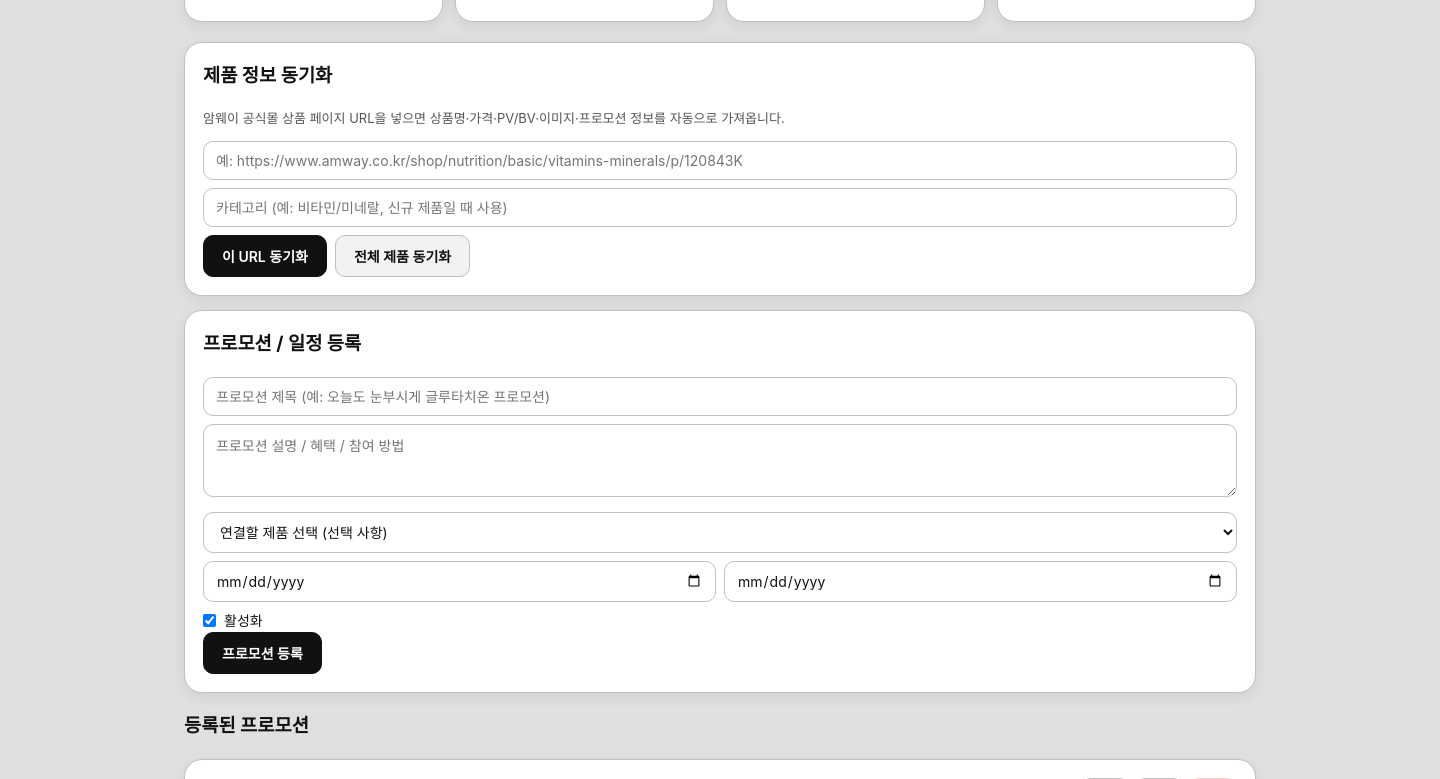
Test: Admin 프로모션 관리 › 모든 항목을 입력해 프로모션을 등록한다
(page scrolled)
In the field with placeholder "프로모션 제목 (예: 오늘도 눈부시게 글루타치온 프로모션)": (720, 397) [203, 377, 1237, 416], type "신규 프로모션"
In the text box with placeholder "프로모션 설명 / 혜택 / 참여 방법": (720, 461) [203, 424, 1237, 497], type "설명"
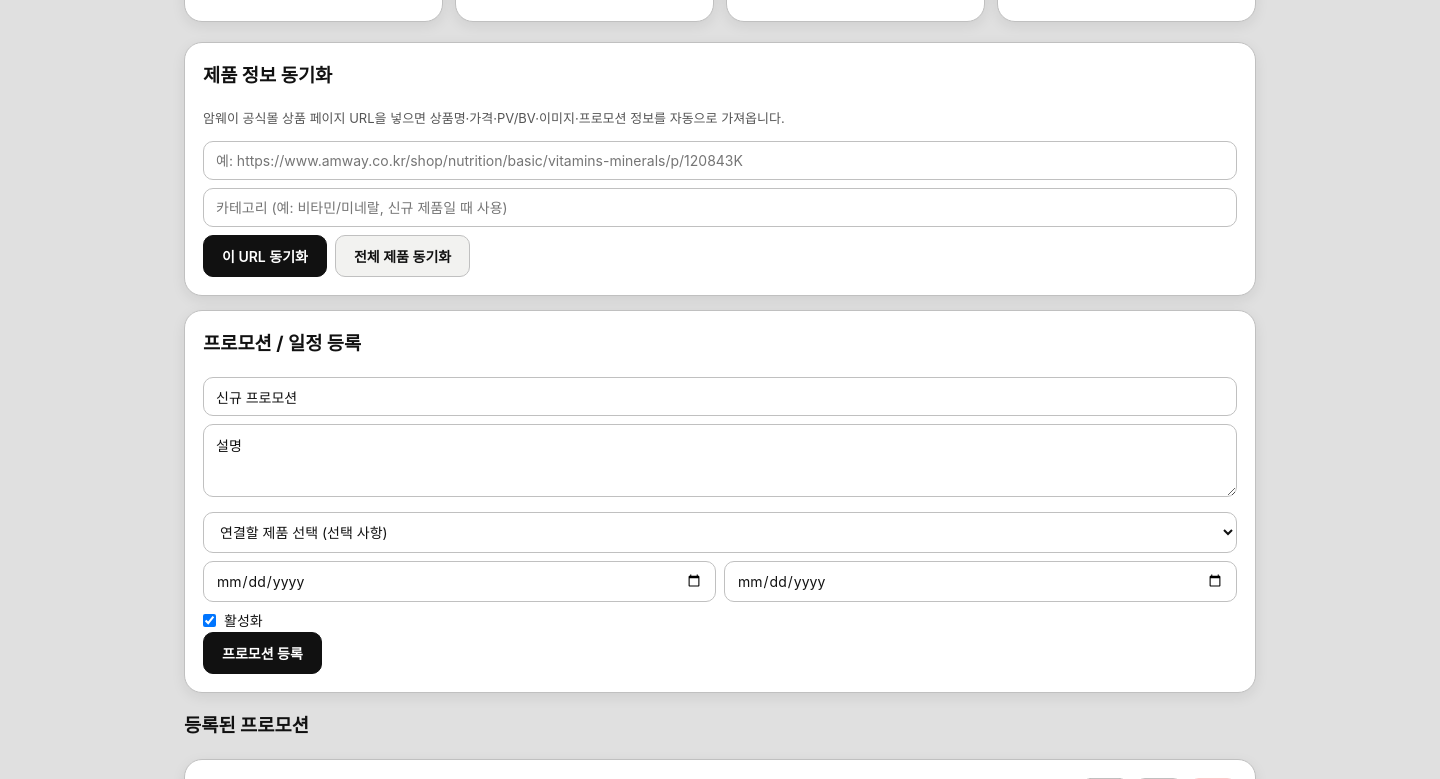
Select "루테인" in the dropdown: (720, 532) [203, 512, 1237, 553]
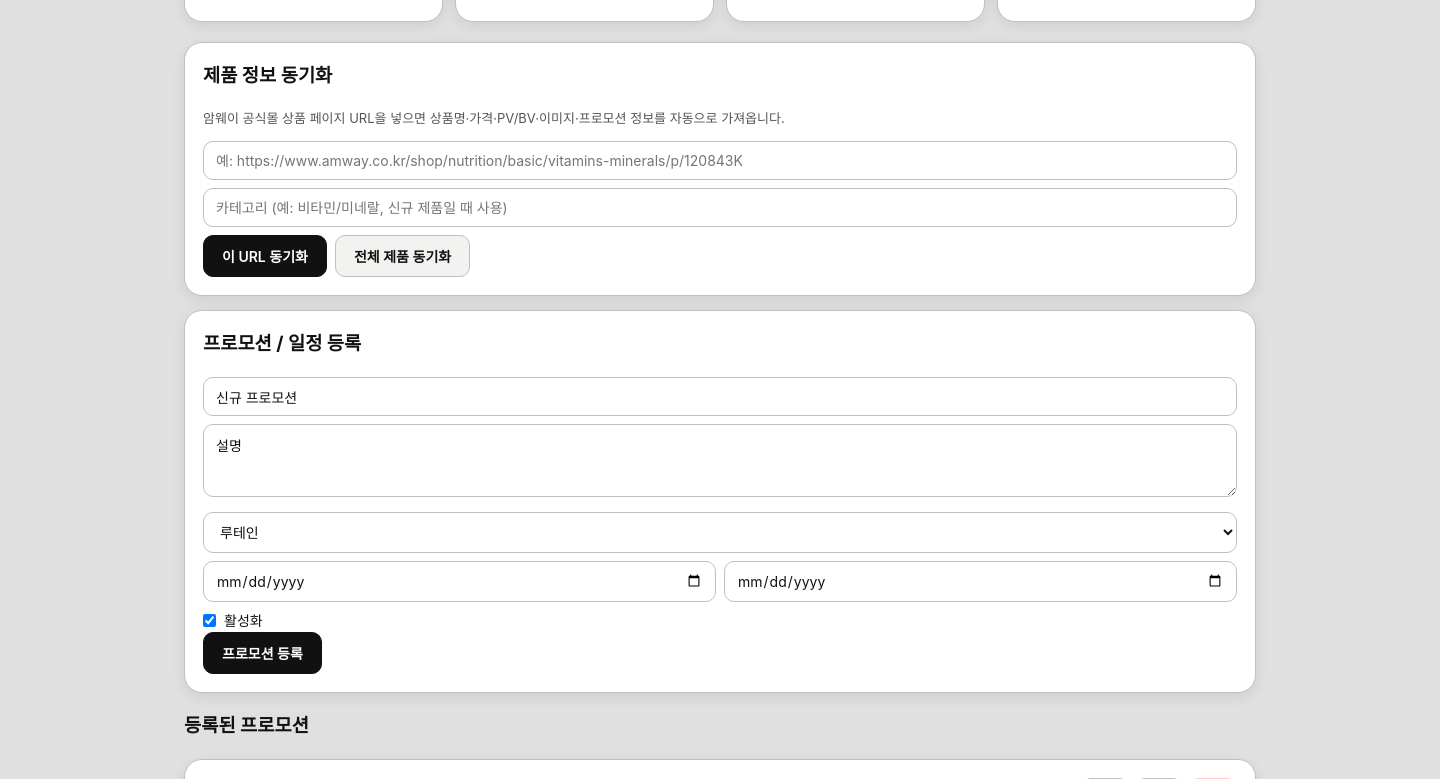
In the date field named "시작일": (460, 582) [203, 561, 716, 602], type "2026-10-01"
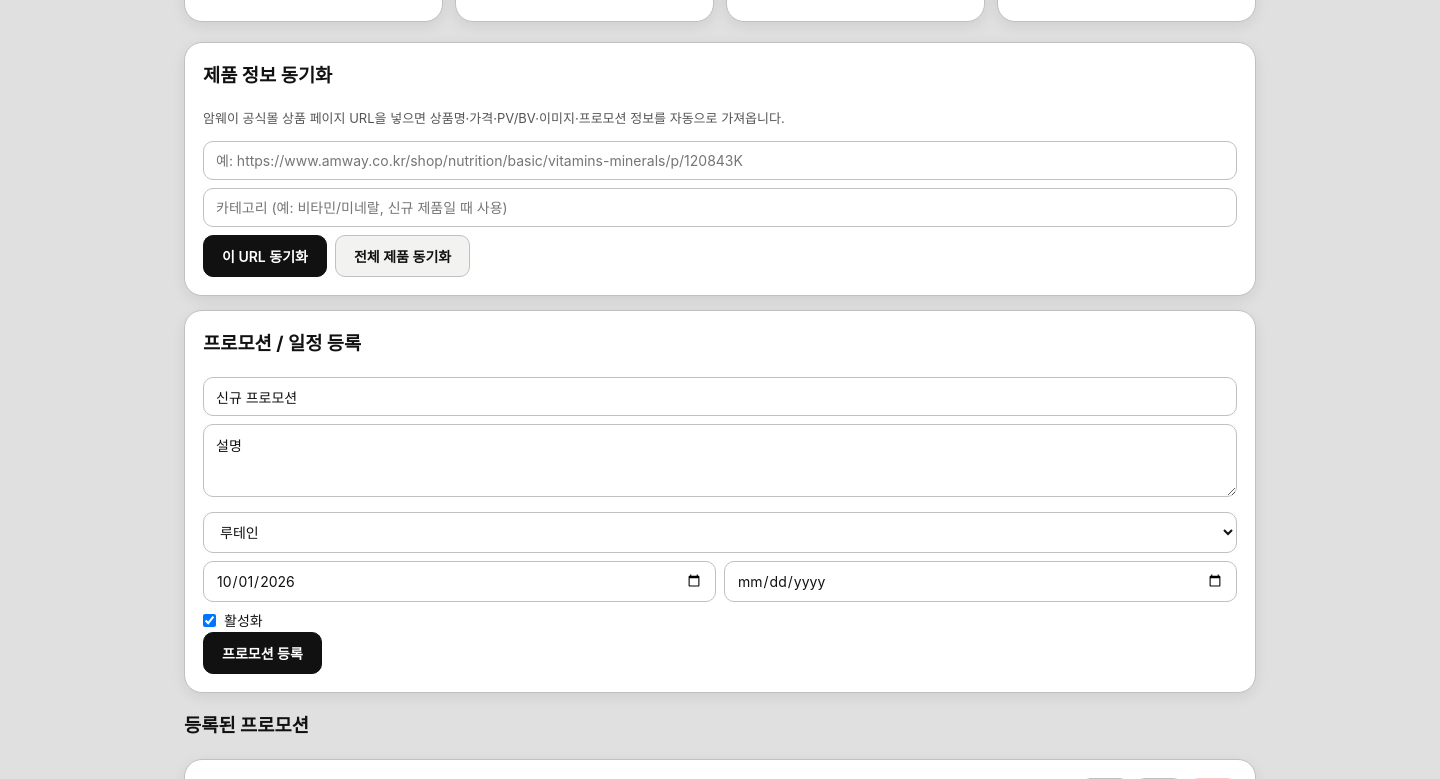
In the date field named "종료일": (980, 582) [724, 561, 1237, 602], type "2026-10-31"
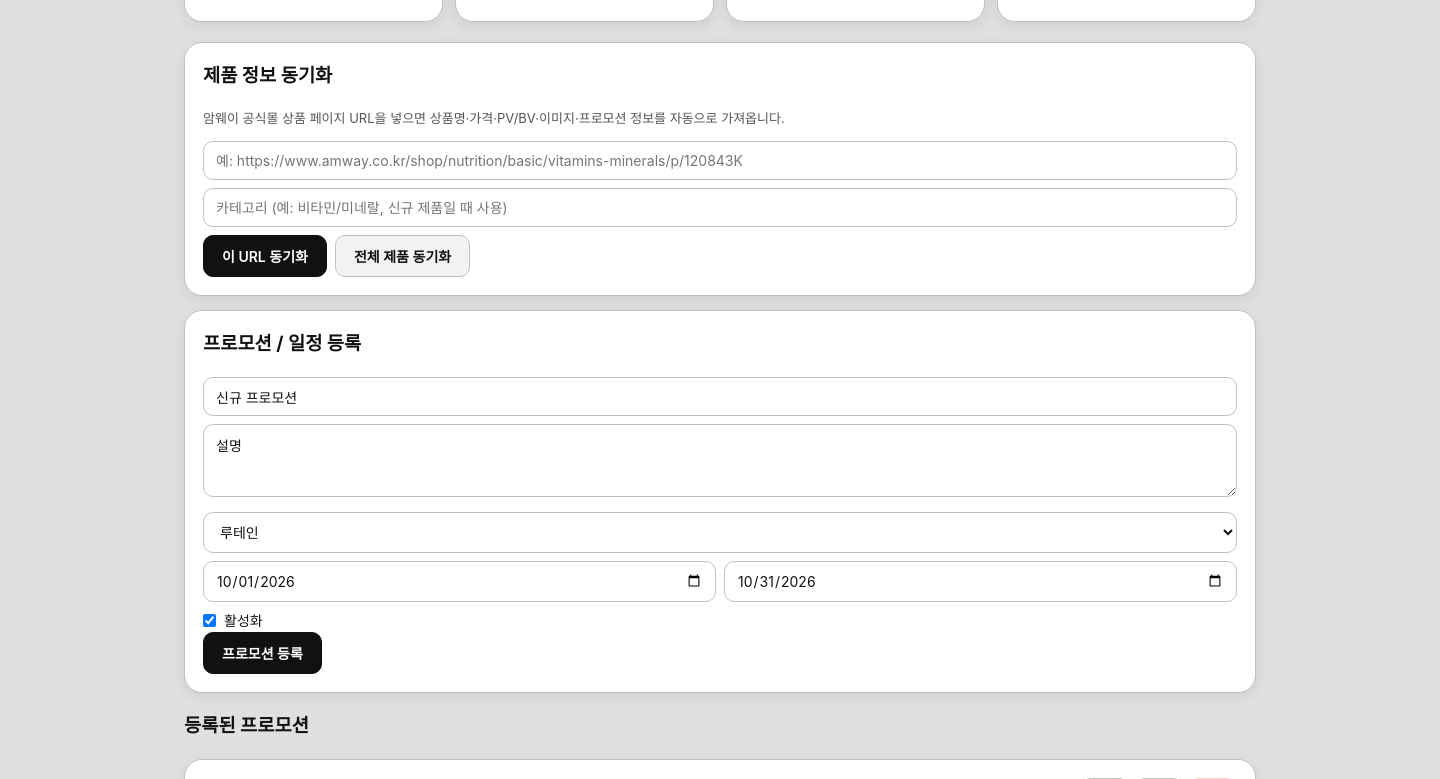
Click the checkbox labelled "활성화": (210, 621) [203, 614, 216, 627]
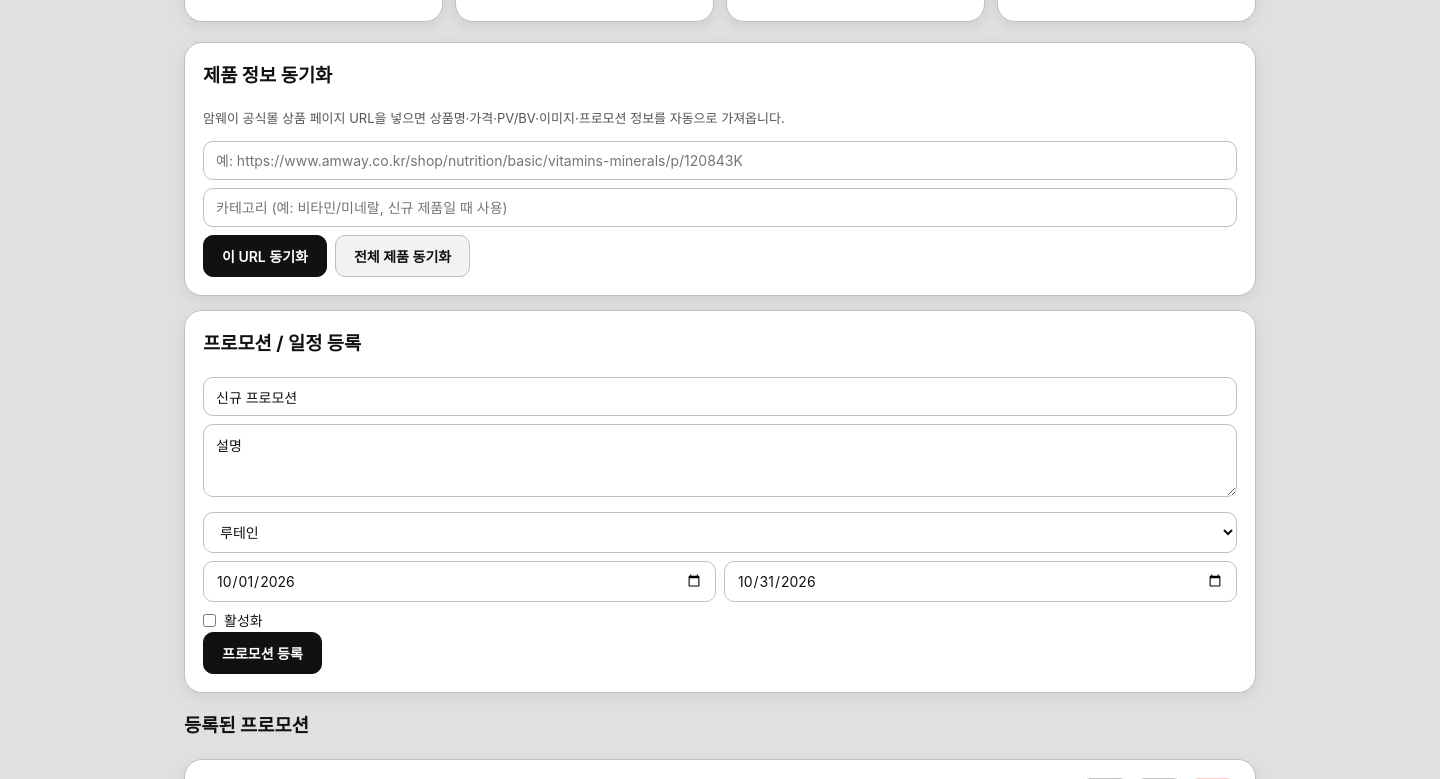
Click the button "프로모션 등록": (262, 653) [203, 632, 322, 674]
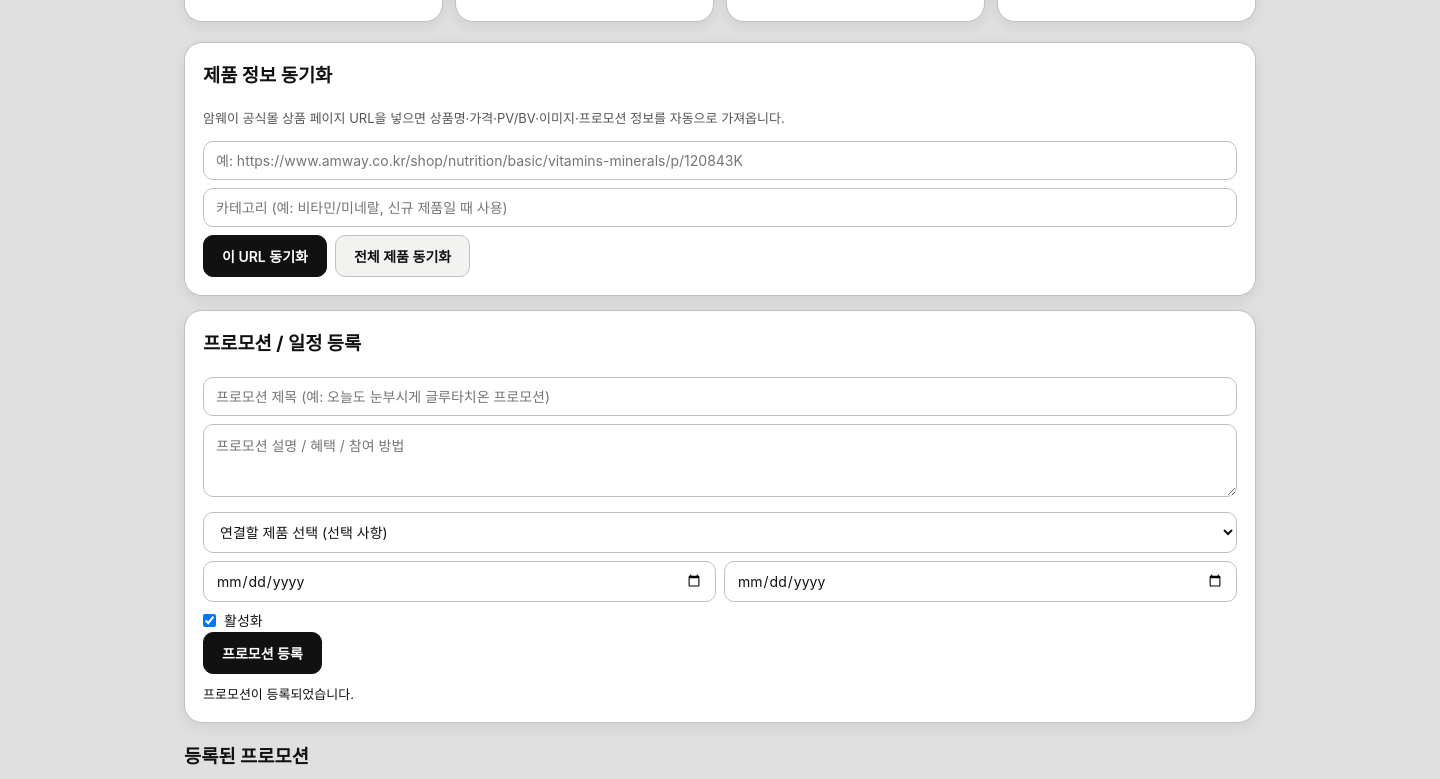
expect the text "프로모션이 등록되었습니다." is shown: met, box [203, 686, 354, 702]
expect the field with placeholder "프로모션 제목 (예: 오늘도 눈부시게 글루타치온 프로모션)" is empty: met, box [203, 377, 1237, 416]
